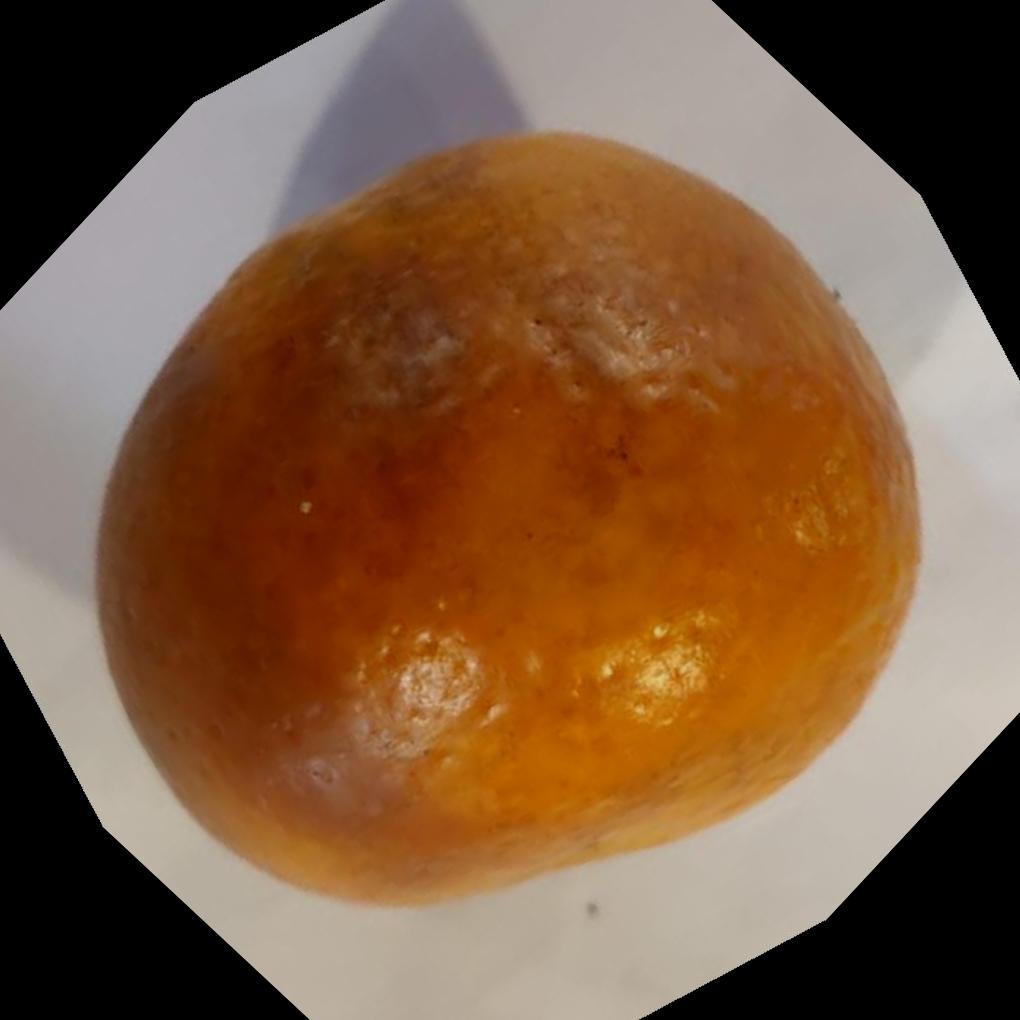FreshOrange: (88, 130, 922, 912)
